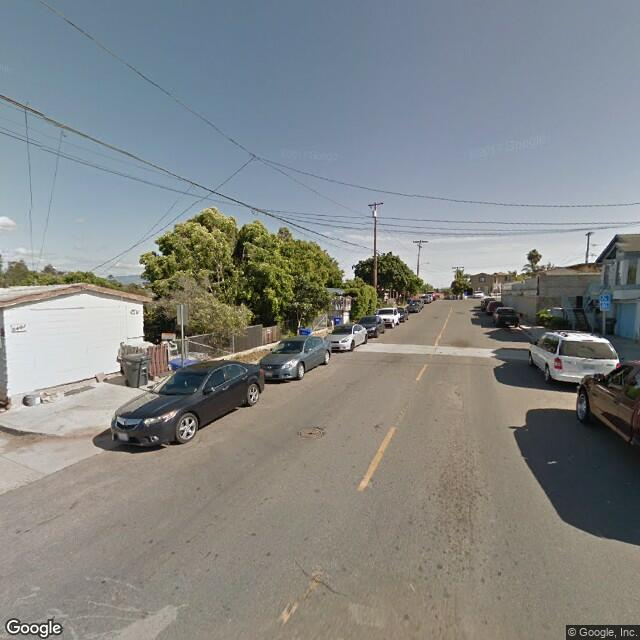litter: (20, 389, 48, 408)
